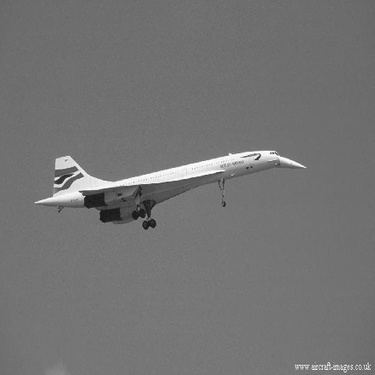airplane: (22, 139, 314, 234)
